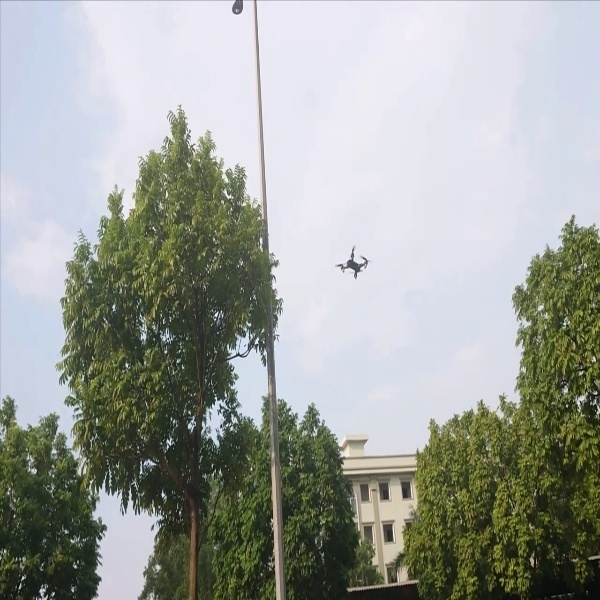drone: (329, 245, 376, 281)
